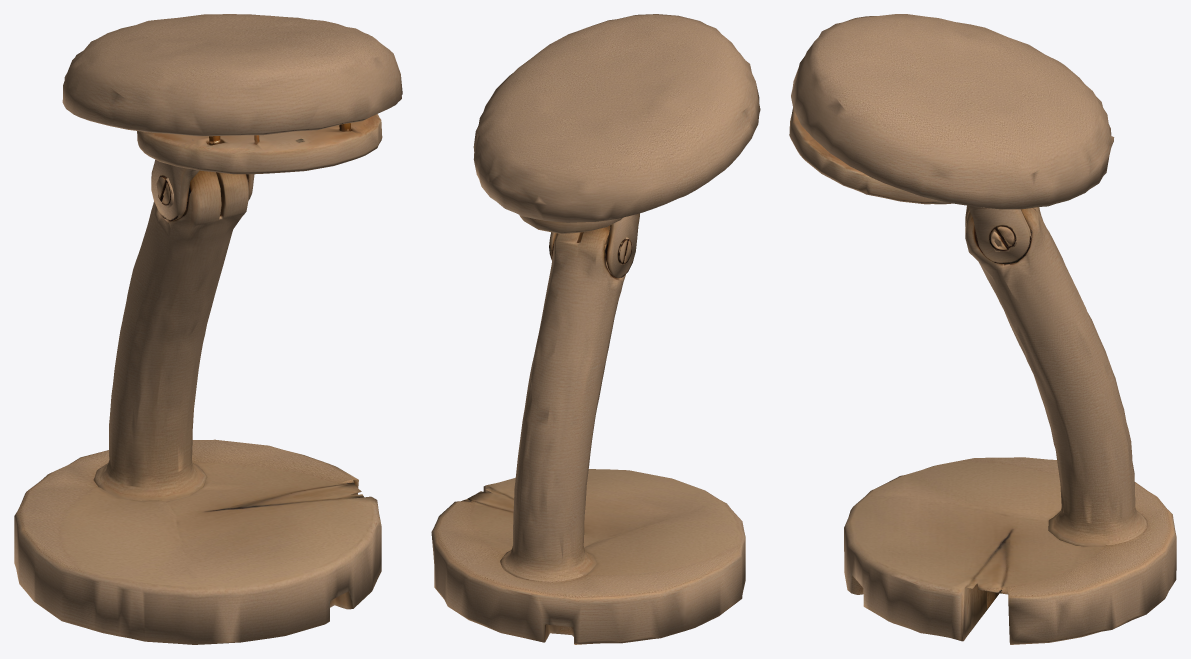
File: stand_lamp_01.glb
3 renders of one model, left to right at view 1: azimuth 30°, elevation 25°; view 2: azimuth 150°, elevation 25°; view 3: azimuth 270°, elevation 25°, orthographic. The views are drawn at different scales.
Visible parts, largest first — view 1: tripo_part_2, tripo_part_3, tripo_part_1, tripo_part_0, tripo_part_4; view 2: tripo_part_3, tripo_part_2, tripo_part_1, tripo_part_4, tripo_part_0; view 3: tripo_part_3, tripo_part_2, tripo_part_1, tripo_part_0, tripo_part_4.
Boxes of the visible parts, x1,y1,x2,y2 form: tripo_part_2: (14, 439, 381, 644); tripo_part_3: (62, 14, 402, 136); tripo_part_1: (93, 170, 248, 501); tripo_part_0: (137, 114, 382, 174); tripo_part_4: (151, 159, 254, 221); tripo_part_3: (473, 14, 760, 222); tripo_part_2: (431, 469, 745, 644); tripo_part_1: (500, 225, 625, 582); tripo_part_4: (549, 213, 639, 278); tripo_part_0: (519, 215, 623, 234); tripo_part_3: (791, 14, 1114, 209); tripo_part_2: (844, 457, 1176, 644); tripo_part_1: (965, 206, 1147, 546); tripo_part_0: (789, 108, 952, 204); tripo_part_4: (967, 205, 1031, 264).
Bounding box in the file's own units: 0.5698 × 1 × 0.6635.
Materials: 11 (11 with a texture image).
